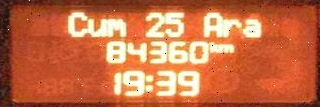0: (188, 40, 207, 64)
1: (112, 69, 122, 94)
2: (143, 11, 164, 38)
3: (155, 68, 175, 97), (149, 39, 167, 64)
4: (124, 40, 146, 62)
5: (163, 10, 185, 38)
6: (168, 39, 188, 64)
8: (105, 39, 126, 63)
9: (176, 68, 200, 97), (122, 69, 144, 96)
X: (65, 12, 88, 36), (201, 11, 221, 36), (106, 15, 125, 36), (87, 16, 106, 37), (221, 18, 239, 38), (244, 17, 261, 38), (219, 41, 236, 54), (145, 73, 154, 93), (207, 40, 219, 53)
